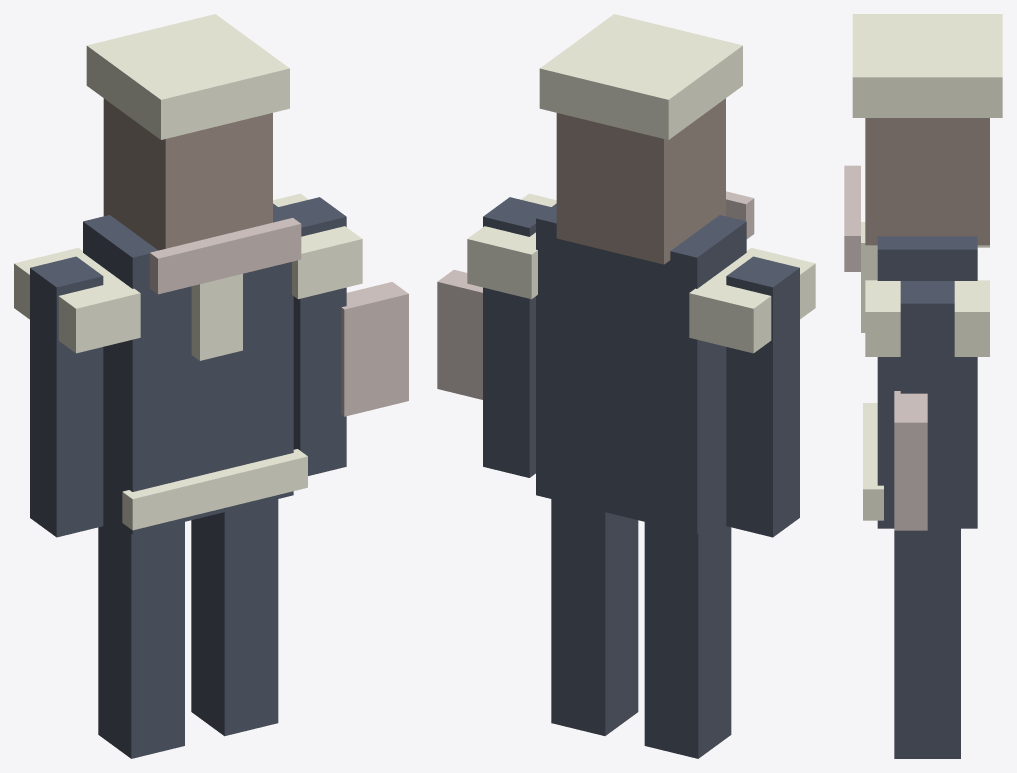
File: 01_mirek_ironwake_cartographer_near_orbital.glb
3 renders of one model, left to right at view 1: azimuth 30°, elevation 25°; view 2: azimuth 150°, elevation 25°; view 3: azimuth 270°, elevation 25°, orthographic.
Parts seen in each view (by area): view 1: Mirek Ironwake, Cartographer near Orbital; view 2: Mirek Ironwake, Cartographer near Orbital; view 3: Mirek Ironwake, Cartographer near Orbital.
Part boxes in pixels (box(x1,y1,x2,y2)): Mirek Ironwake, Cartographer near Orbital: box(14, 14, 408, 758); Mirek Ironwake, Cartographer near Orbital: box(437, 14, 815, 758); Mirek Ironwake, Cartographer near Orbital: box(844, 14, 1002, 758).
Bounding box in the file's own units: 0.9305 × 1.71 × 0.3626.
